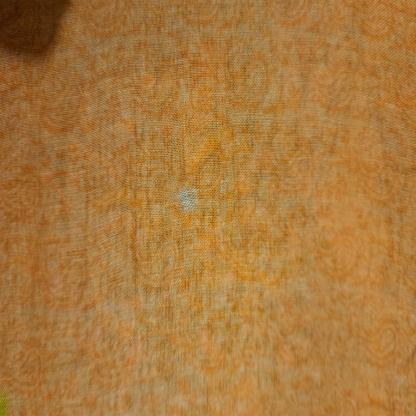spot: (174, 183, 202, 218)
